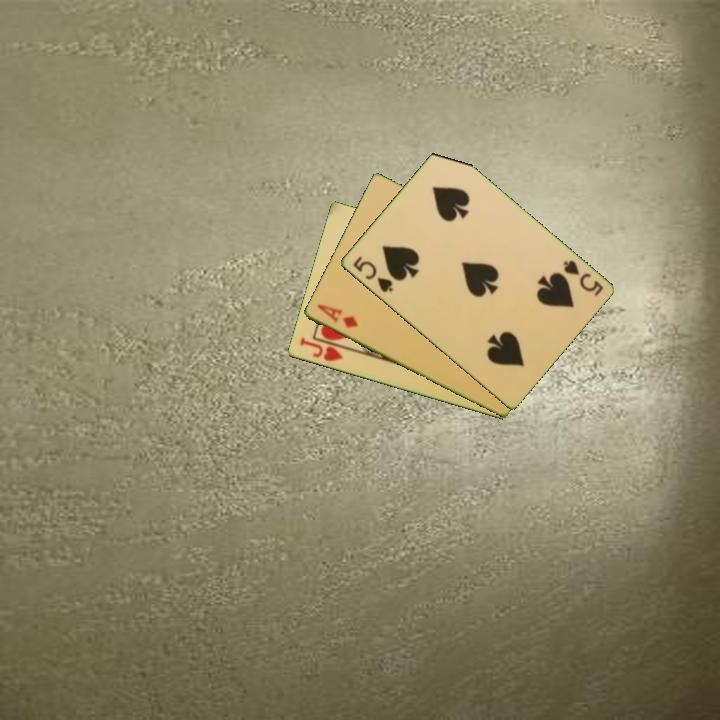5s: (349, 253, 396, 296), (559, 256, 606, 299)
Ad: (313, 301, 361, 331)
Jh: (296, 334, 352, 365)
